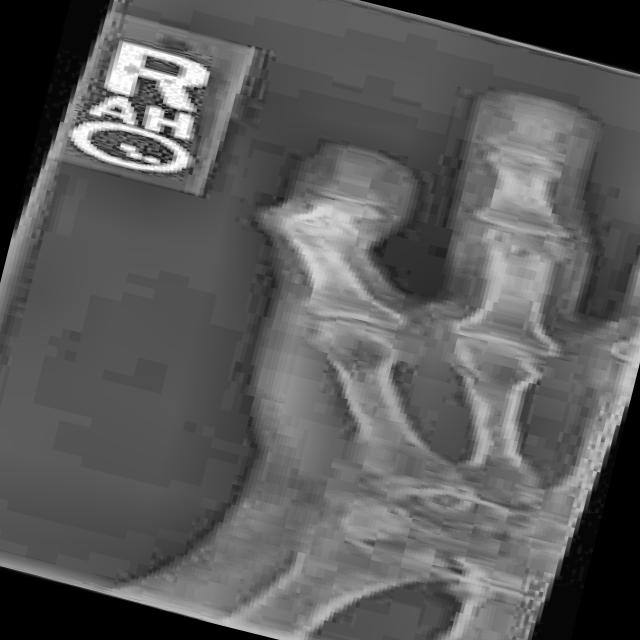fingers positive: (255, 198, 375, 259)
